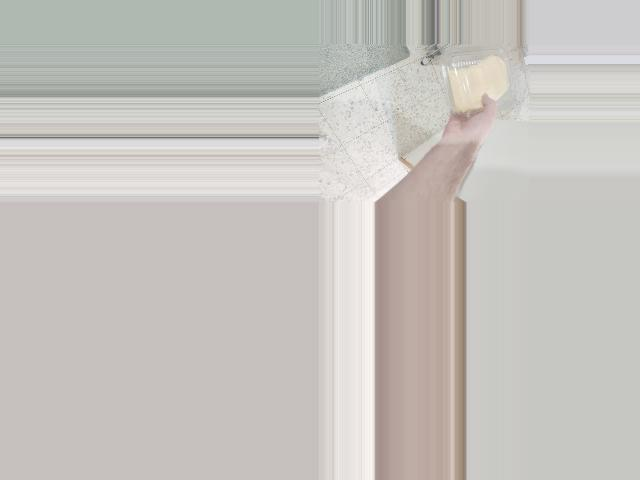cheese: (441, 50, 511, 114)
